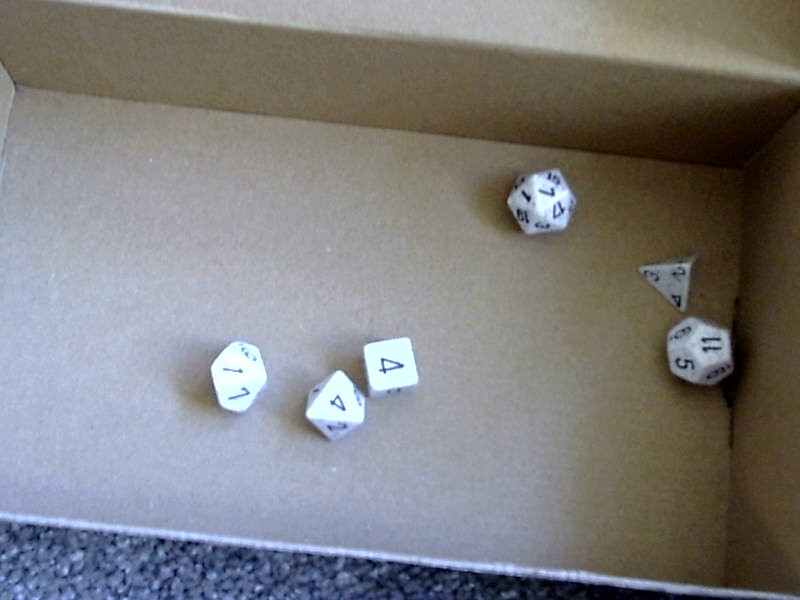d10 1: (200, 333, 274, 424)
d12 11: (661, 316, 738, 390)
d20 7: (504, 162, 580, 244)
d4 2: (634, 242, 699, 314)
d6 4: (358, 327, 426, 401)
d8 4: (296, 364, 366, 450)
